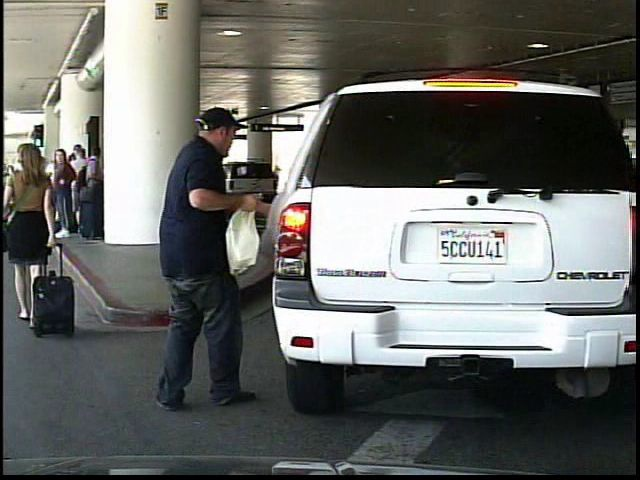person: (149, 106, 280, 410), (7, 137, 62, 332)
